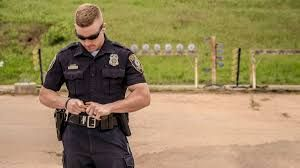gun: (51, 109, 68, 144), (113, 114, 136, 136)
uniform: (51, 44, 135, 164)
